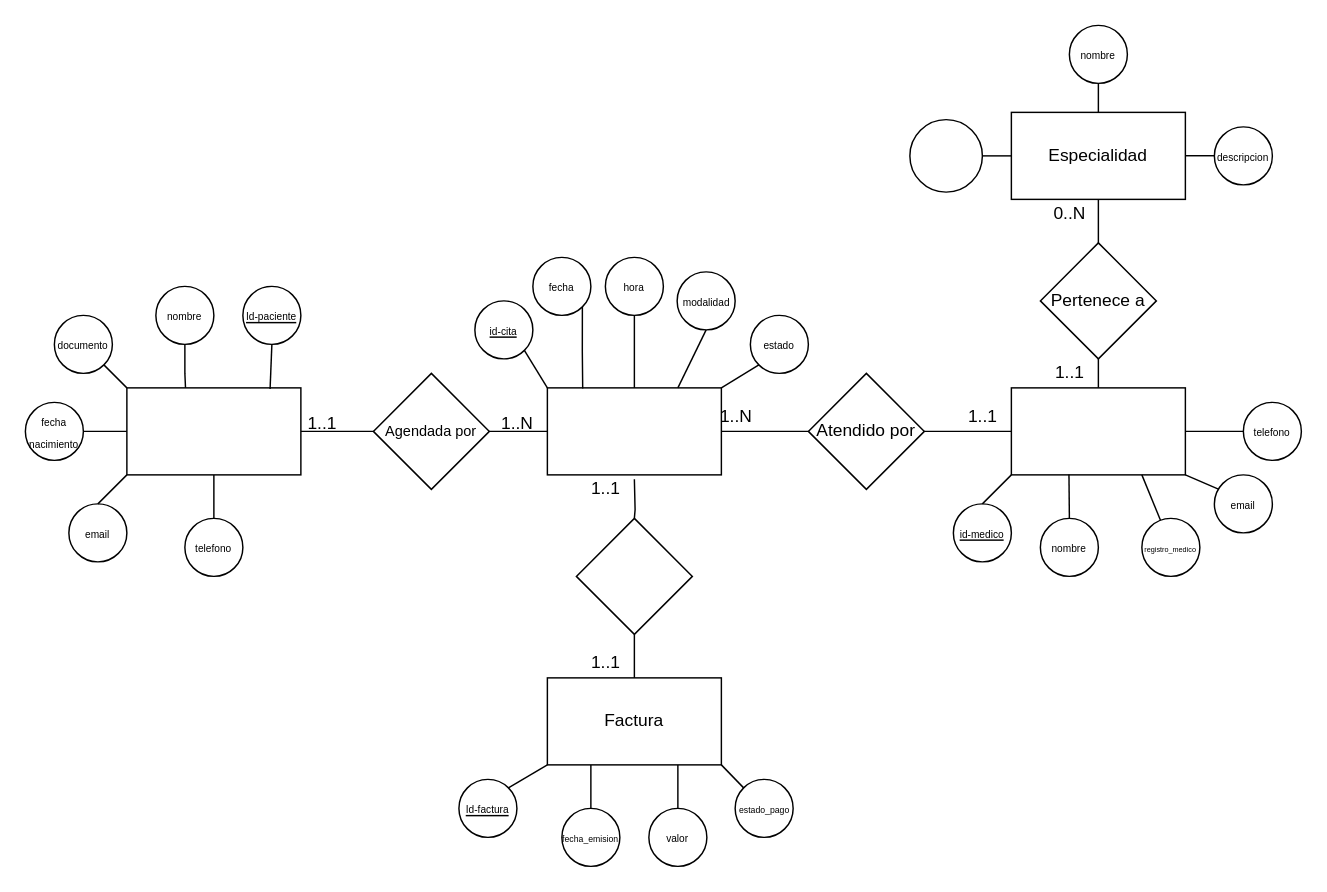
Image size: 1327x892. Some labels were removed from this diagram. Each missing label, with the centre of its shape:
"Cita" belongs at (633,430).
"Genera" belongs at (633,575).
"id-especialidad" belongs at (945,155).
"Medico" belongs at (1097,430).
"Paciente" belongs at (213,430).
